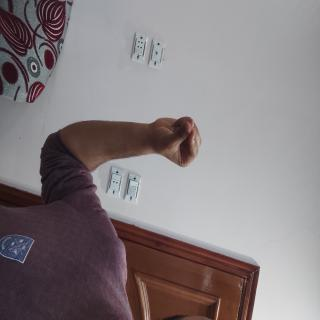QAAF: (81, 148, 126, 228)
